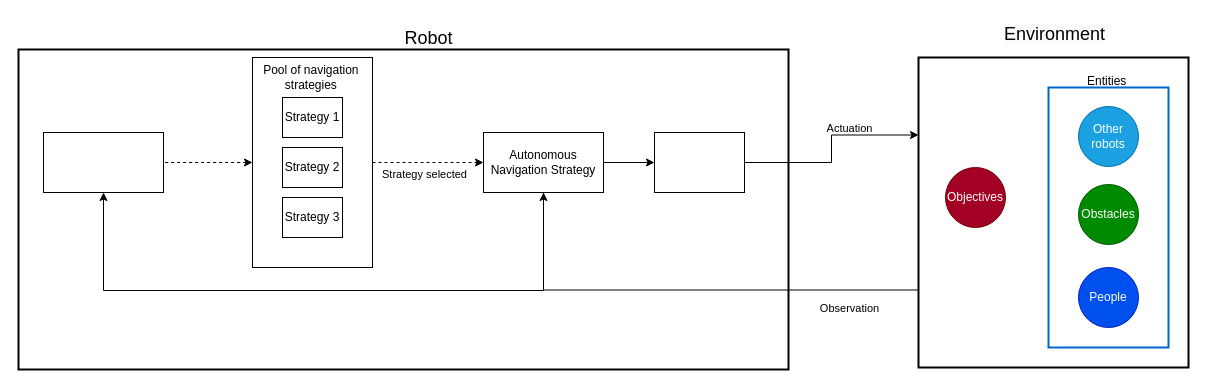
Some shapes in this 1206 by 387 pixel diagram are drawn without their labels. The shapes that lost their labels are listed below. From the top down, each one's box as (x1, y1, x2, y2) in pixels, then its label:
(42, 132, 164, 192): Decision making
(654, 132, 744, 192): Controllers
